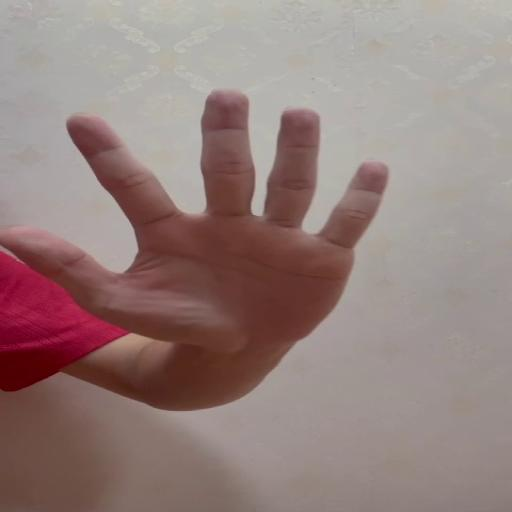open_palm: (2, 86, 390, 356)
